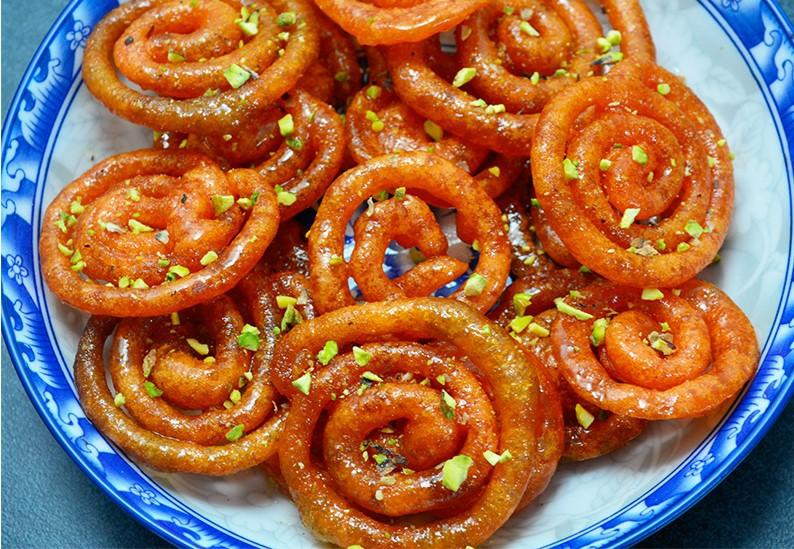Jalebi: (39, 1, 759, 549)
